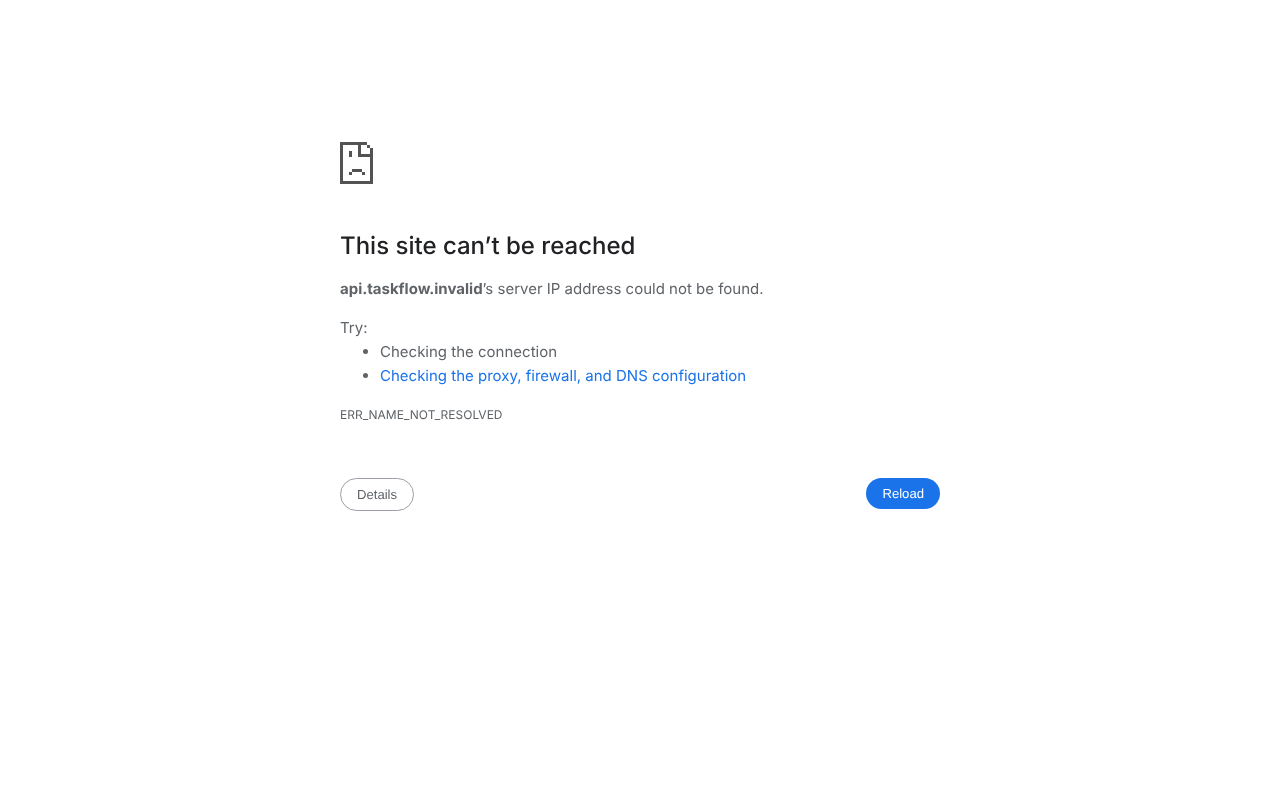ERROR_TEXT: (340, 282, 763, 297), (341, 235, 634, 255)
PII: (340, 282, 493, 297)
STATUS_INDICATOR: (341, 410, 502, 420)
